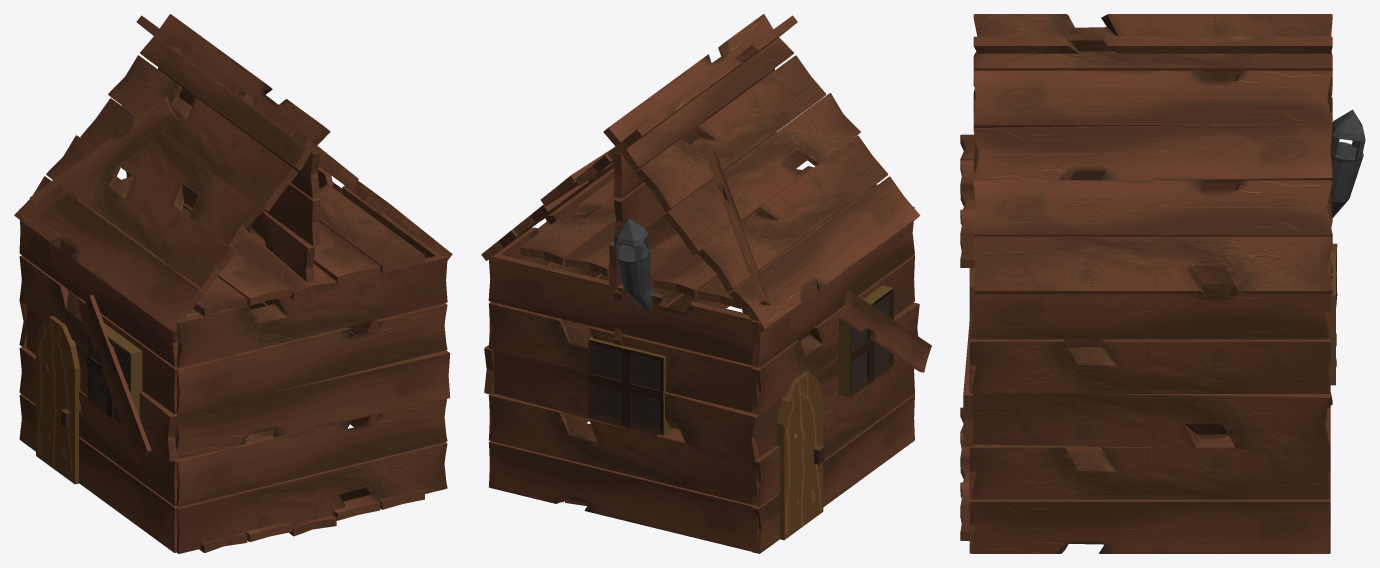
The model's file is shack.obj.
The picture shows the model from 3 angles, left to right: view 1: azimuth 30°, elevation 25°; view 2: azimuth 150°, elevation 25°; view 3: azimuth 270°, elevation 25°; orthographic projection. The views are drawn at different scales.
Parts seen in each view (by area): view 1: Cube.061_Cube.000, Cube.018_Cube.015, Cube.028_Cube.020; view 2: Cube.061_Cube.000, Cube.018_Cube.015; view 3: Cube.061_Cube.000, Cube.018_Cube.015, Cube.028_Cube.020.
Boxes of the visible parts, box(x1,y1,x2,y2) form: Cube.061_Cube.000: box(14, 14, 452, 553); Cube.018_Cube.015: box(76, 176, 424, 316); Cube.028_Cube.020: box(199, 429, 424, 552); Cube.061_Cube.000: box(481, 14, 931, 553); Cube.018_Cube.015: box(520, 166, 877, 308); Cube.061_Cube.000: box(963, 14, 1365, 553); Cube.018_Cube.015: box(960, 134, 975, 267); Cube.028_Cube.020: box(960, 407, 1232, 540).
Size of the model in its own units: 8.68 by 11.04 by 8.75.
5 materials, 5 textured.
